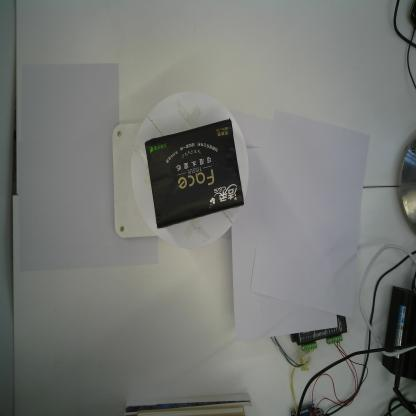Tissue: (144, 118, 245, 230)
